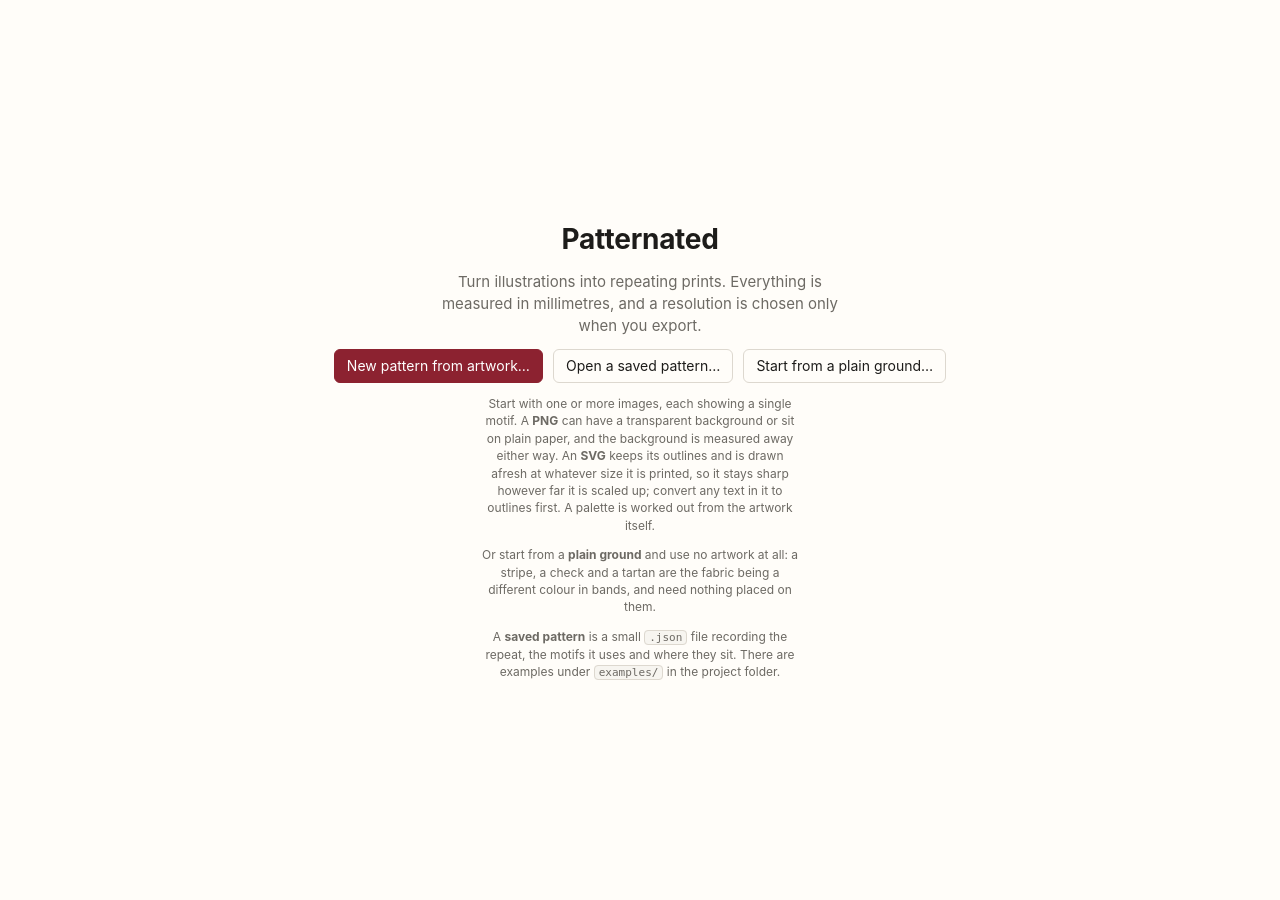
what the engine reports, the interface says › says when a grid was drawn at a different size than asked
Click the button "Open a saved pattern…" at (643,366), box [553,349,733,383]
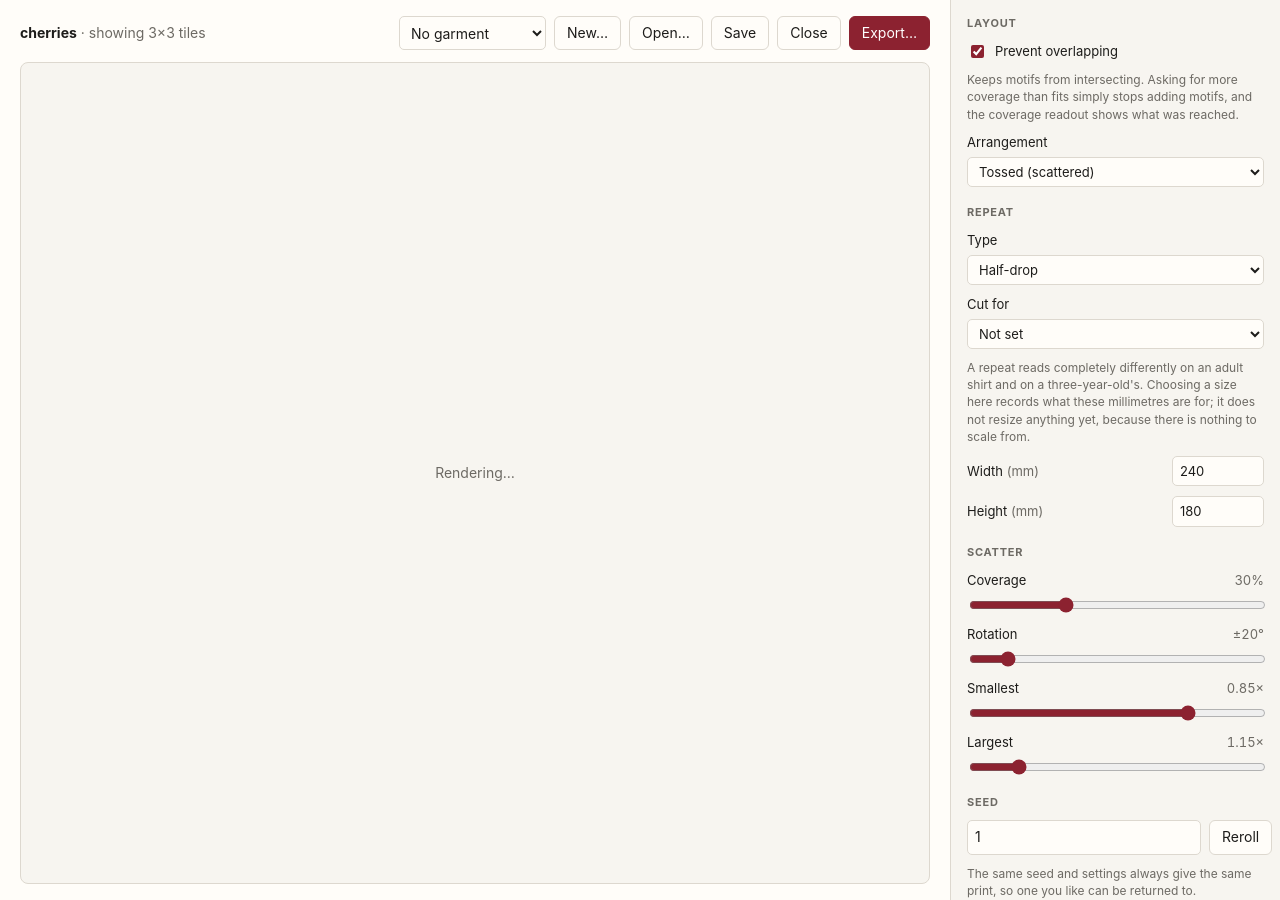
Now the button with test id "close" is shown, box [777,16,841,50]
Select "Diagonal" in the dropdown with test id "layout" at (1116,172), box [967,157,1264,187]
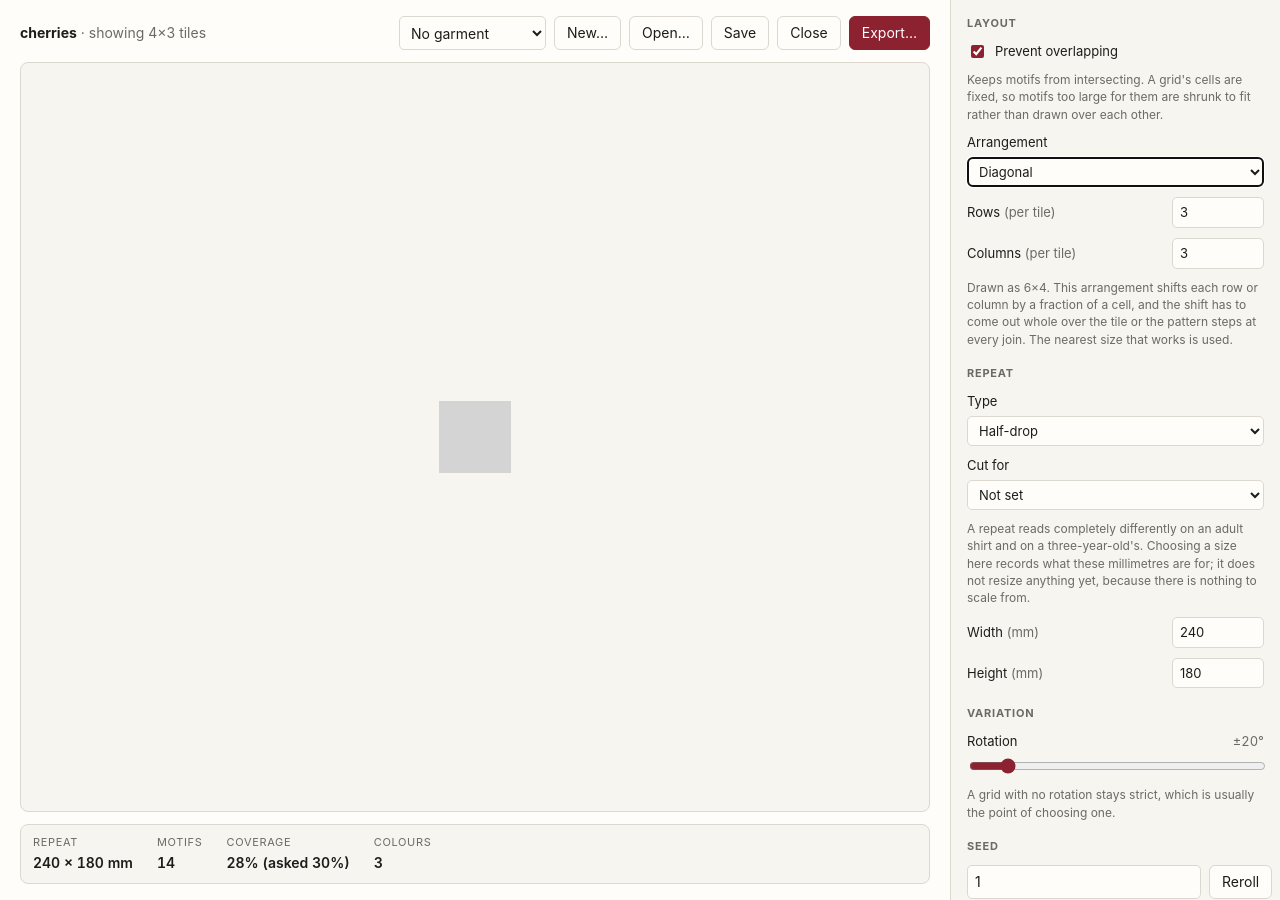
Now the text "Drawn as 6×4" is shown, box [967,279,1264,348]
